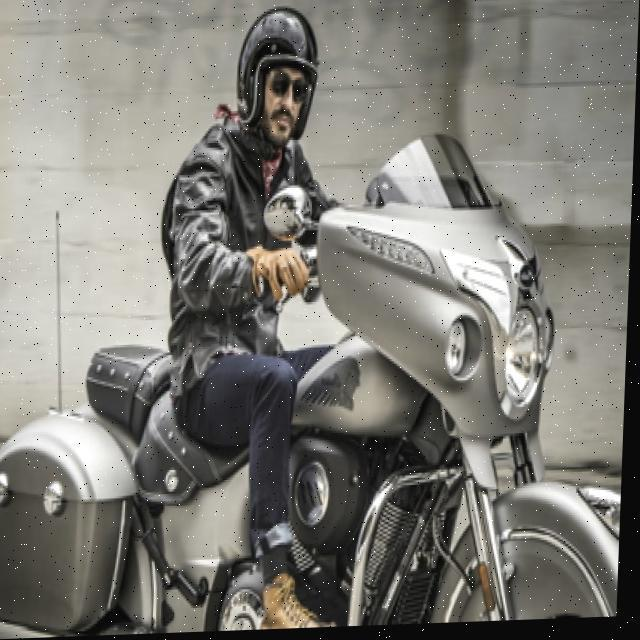Helmet: (232, 5, 330, 144)
